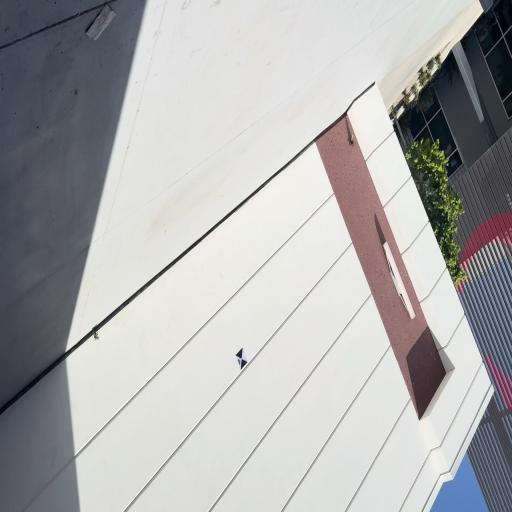target4: (236, 347, 248, 370)
